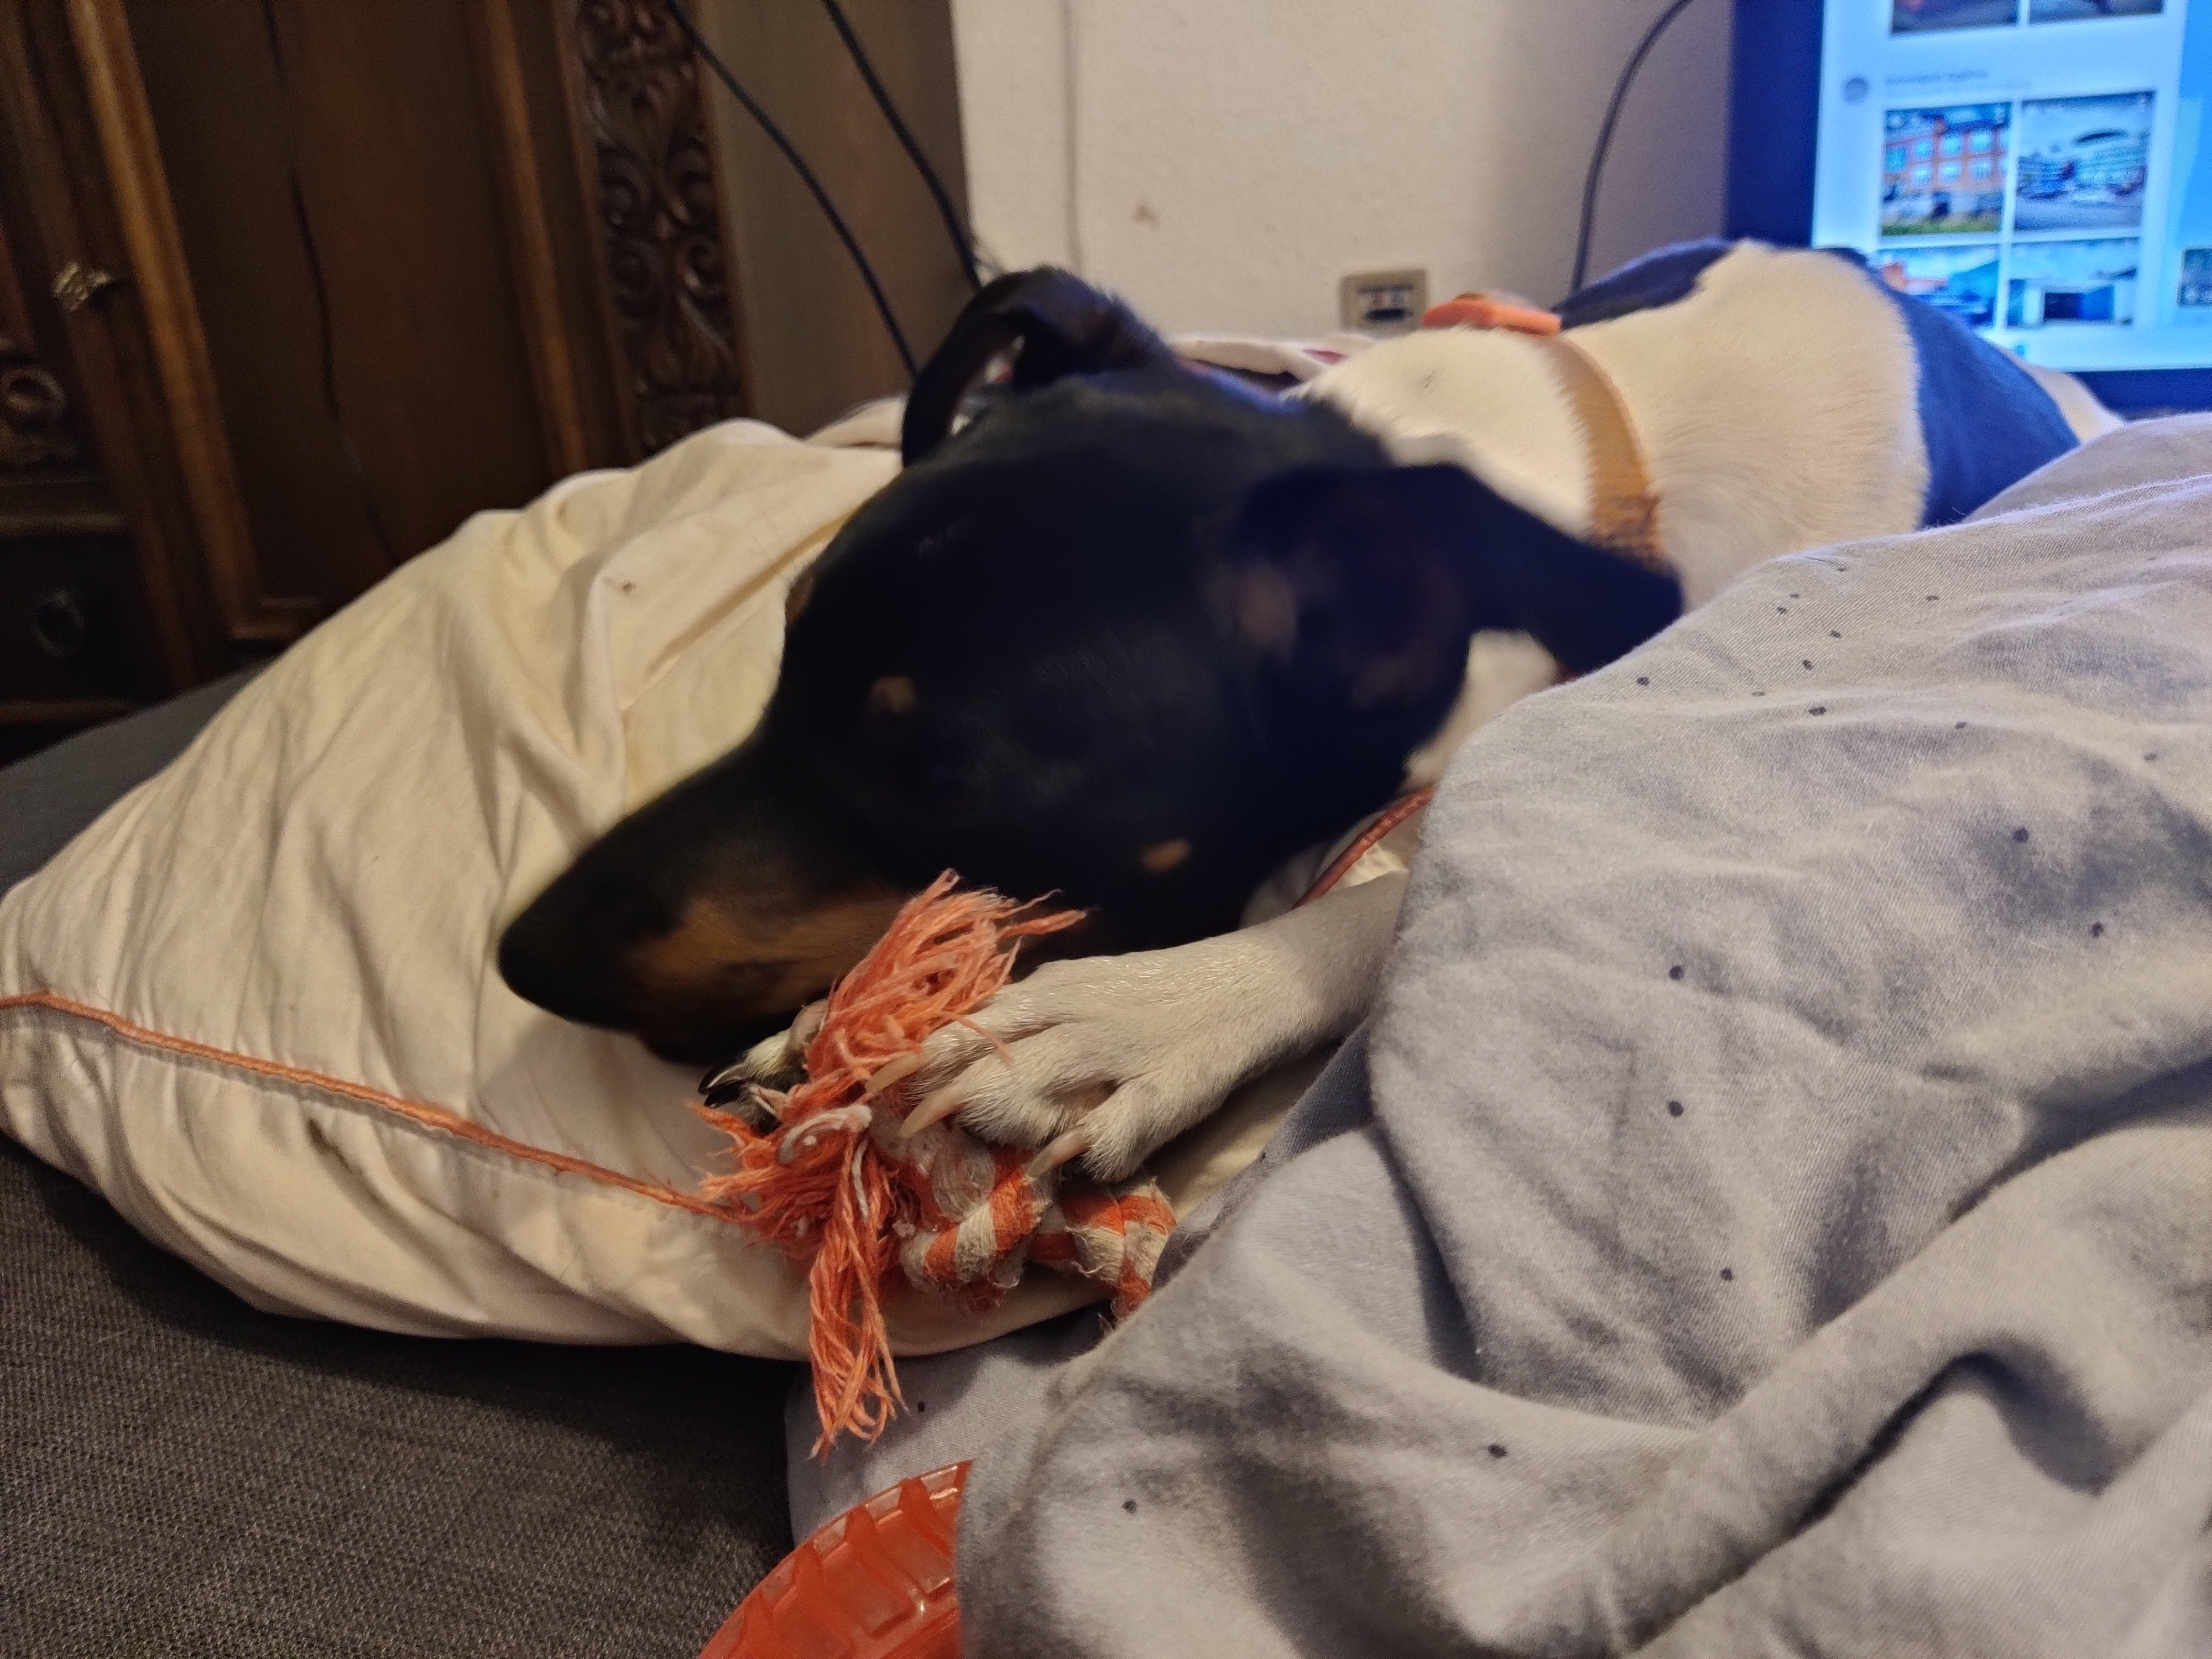Dog: (477, 225, 2160, 1211)
